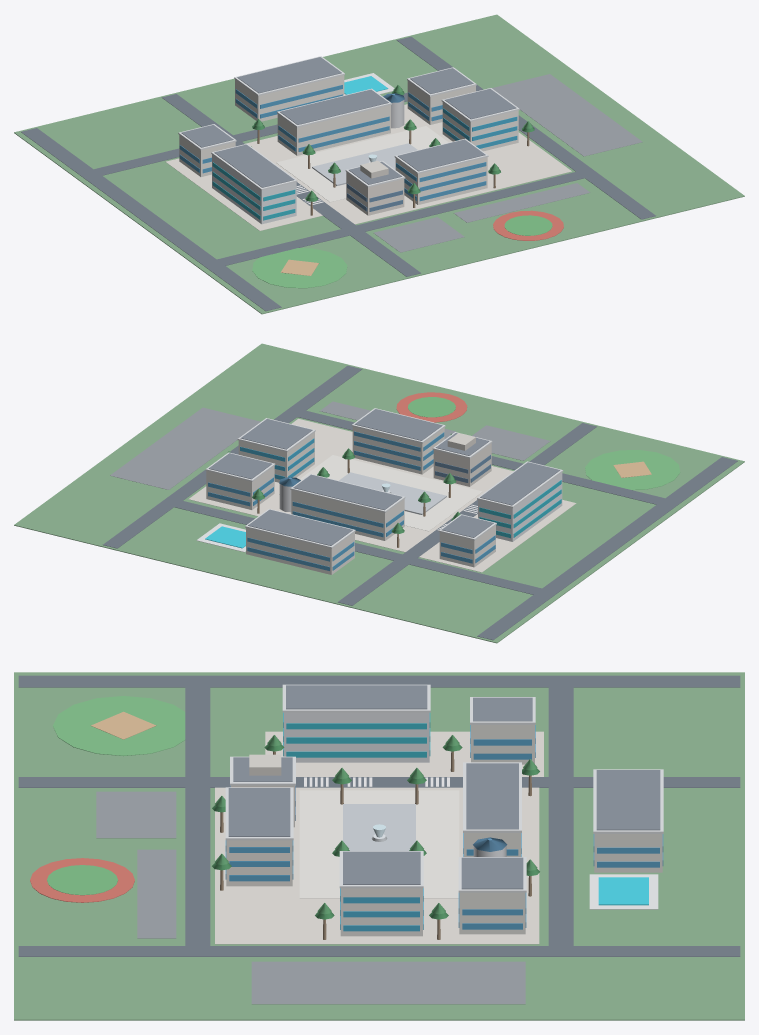
The model's file is mdc_north_campus.glb.
The picture shows the model from 3 angles, top to bottom: view 1: azimuth 30°, elevation 25°; view 2: azimuth 150°, elevation 25°; view 3: azimuth 270°, elevation 25°; orthographic projection. The views are drawn at different scales.
Visible parts, largest first — view 1: MDC_North_Campus_Root; view 2: MDC_North_Campus_Root; view 3: MDC_North_Campus_Root.
Boxes of the visible parts, x1,y1,x2,y2 form: MDC_North_Campus_Root: (14,14,744,314); MDC_North_Campus_Root: (14,343,744,643); MDC_North_Campus_Root: (14,672,744,1020).
Size of the model in its own units: 18 by 1.32 by 16.
